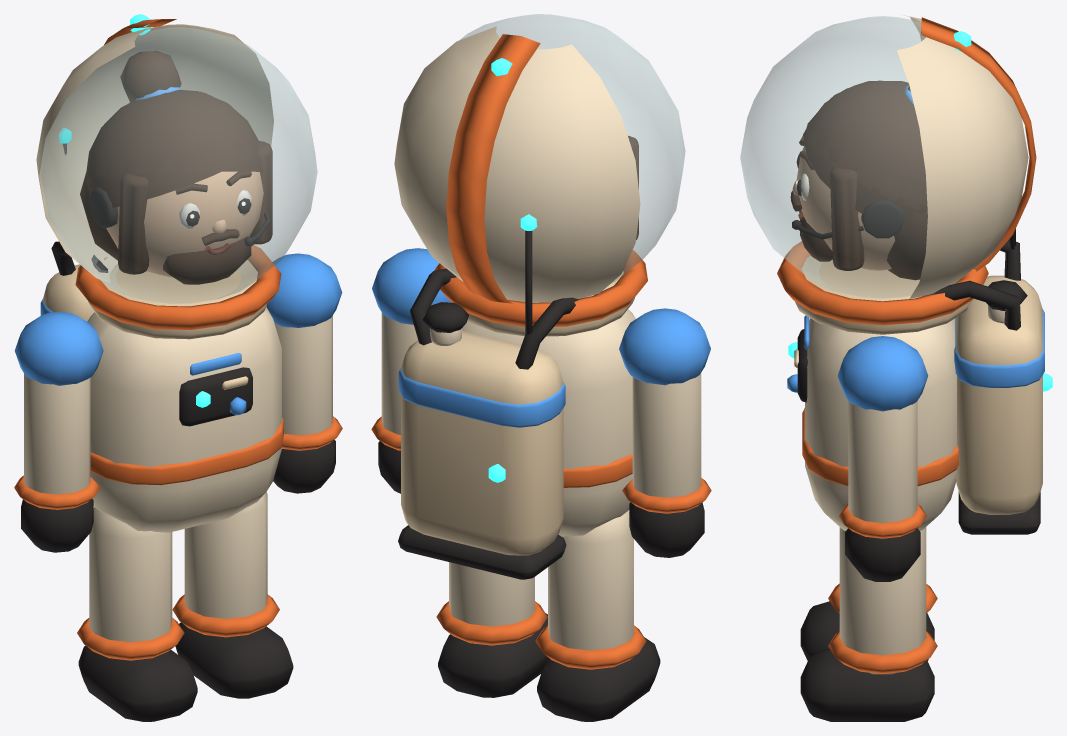
Rendered from elevate-2.glb.
The picture shows the model from 3 angles, left to right: view 1: azimuth 30°, elevation 25°; view 2: azimuth 150°, elevation 25°; view 3: azimuth 270°, elevation 25°; orthographic projection. The views are drawn at different scales.
Visible parts, largest first — view 1: body, leg_r, arm_r, leg_l, arm_l, hair_full, hair_short, hair_bun, beard; view 2: body, arm_r, leg_r, leg_l, stripe, arm_l, aerial; view 3: body, arm_l, leg_l, hair_full, hair_bun, hair_short, stripe, leg_r, beard.
Boxes of the visible parts, box(x1,y1,x2,y2) form: body: box(36, 14, 317, 532); leg_r: box(77, 507, 197, 721); arm_r: box(14, 311, 103, 552); leg_l: box(172, 491, 293, 698); arm_l: box(266, 253, 342, 493); hair_full: box(80, 90, 272, 274); hair_short: box(85, 92, 263, 178); hair_bun: box(86, 51, 259, 201); beard: box(163, 229, 251, 284); body: box(394, 14, 685, 579); arm_r: box(619, 308, 711, 557); leg_r: box(535, 510, 660, 721); leg_l: box(436, 562, 548, 697); stripe: box(446, 34, 540, 303); arm_l: box(371, 248, 450, 493); aerial: box(520, 214, 537, 334); body: box(740, 15, 1052, 534); arm_l: box(837, 336, 928, 581); leg_l: box(800, 528, 937, 721); hair_full: box(803, 82, 927, 280); hair_bun: box(805, 80, 927, 212); hair_short: box(803, 81, 927, 229); stripe: box(921, 17, 1036, 271); leg_r: box(800, 527, 937, 660); beard: box(790, 190, 832, 261).
Size of the model in its own units: 0.864 by 1.7 by 0.7228.
